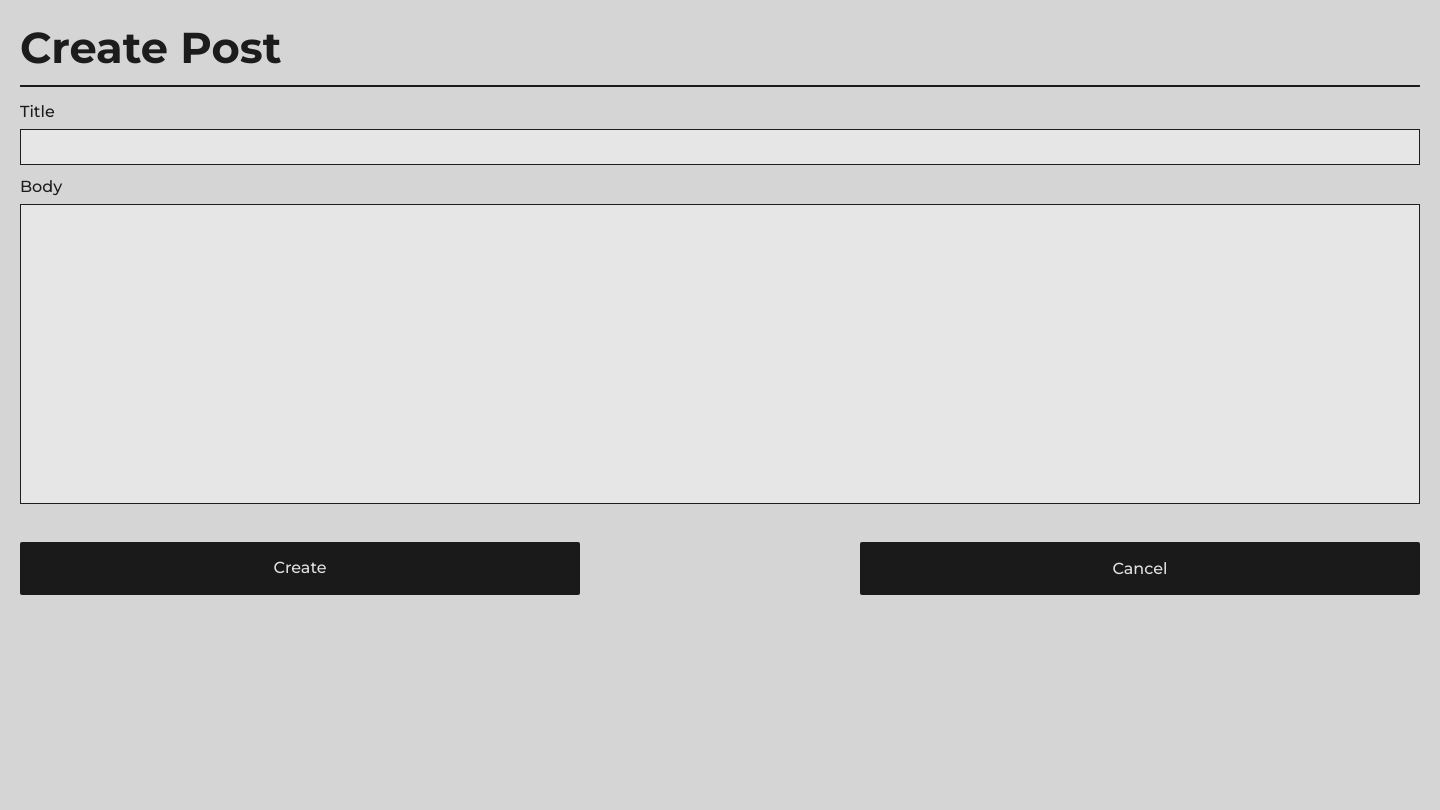
Scenario: CreatePost › should show error alert for validation errors
Type "Test body" into the text box. click: (720, 354)
box: [20,204,1420,504]
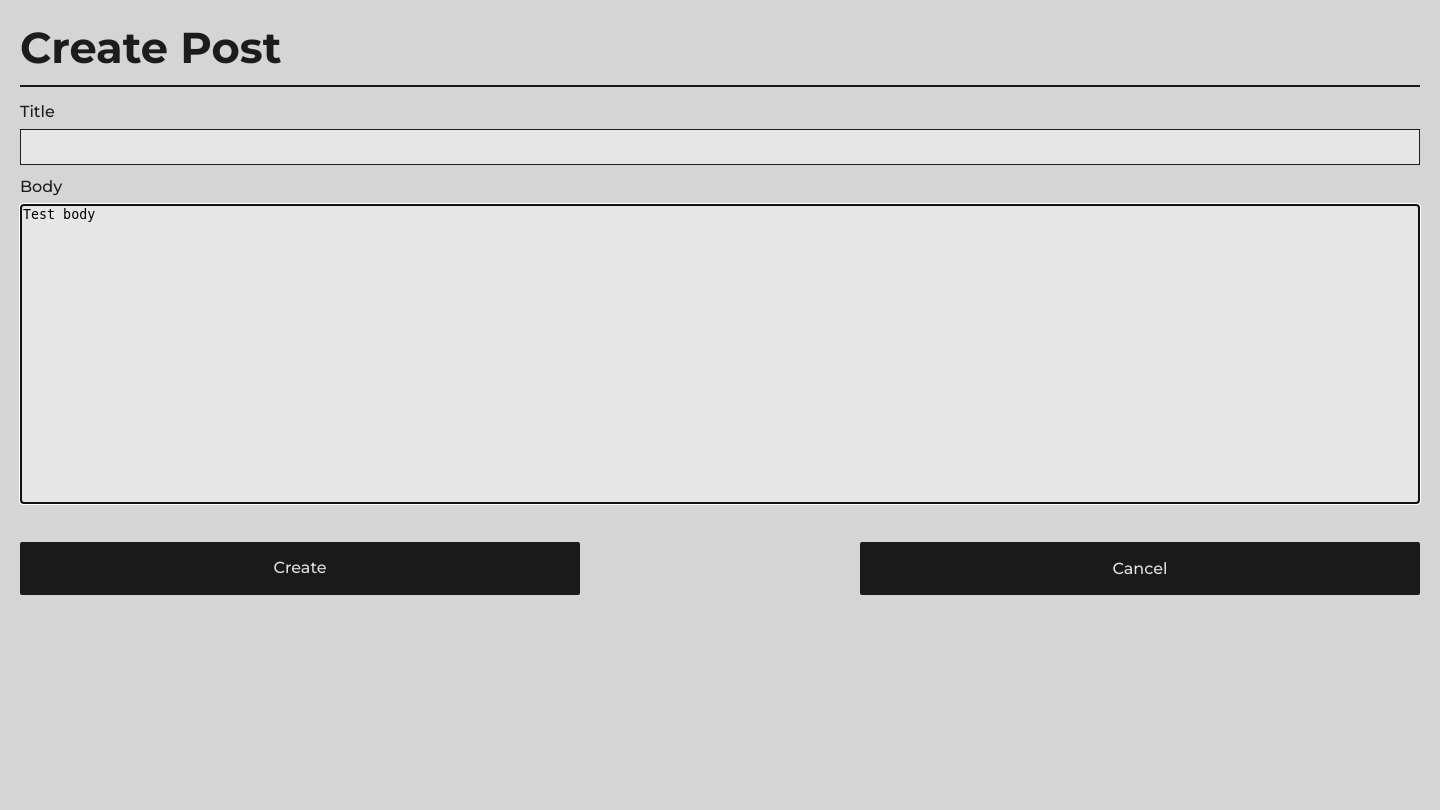
Click the button "Create". click: (300, 568)
box: [20,542,580,595]
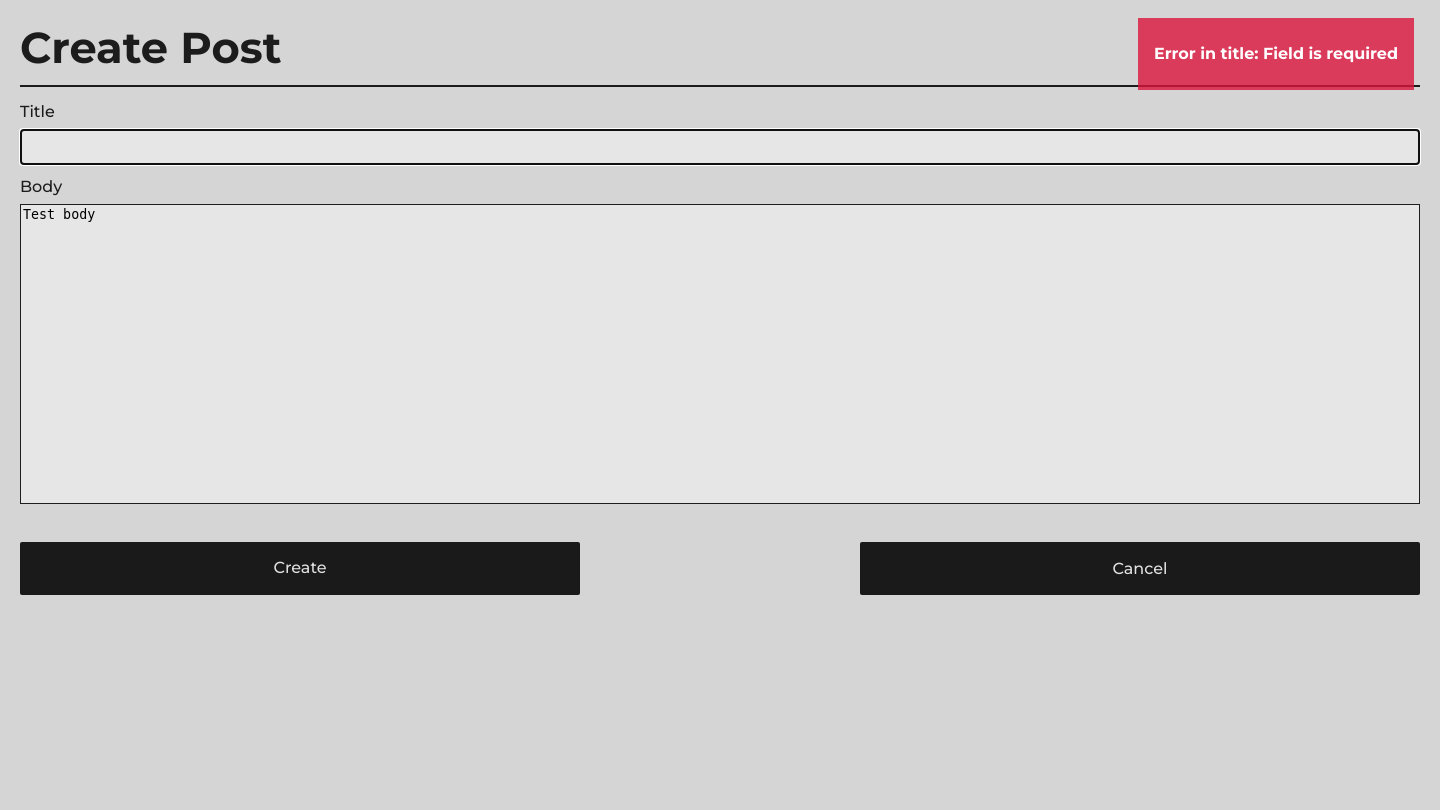
Now the text "Error in title: Field is required" is shown, box [1154,42,1398,66]
